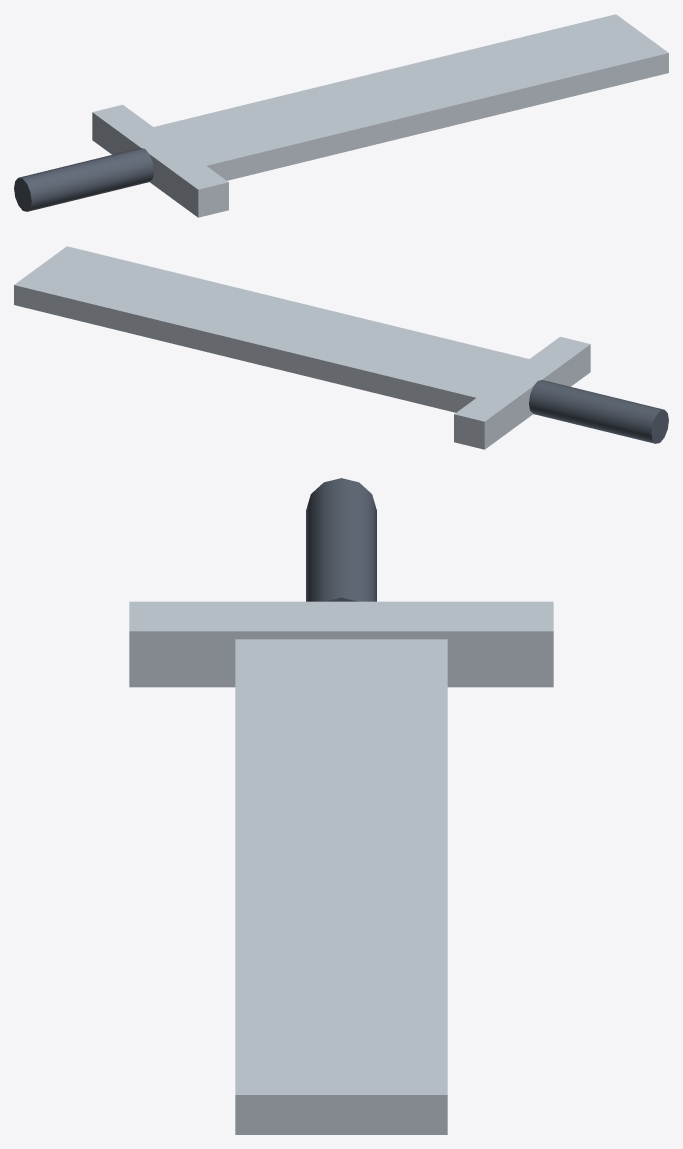
Rendered from sword.glb.
The picture shows the model from 3 angles, top to bottom: view 1: azimuth 30°, elevation 25°; view 2: azimuth 150°, elevation 25°; view 3: azimuth 270°, elevation 25°; orthographic projection. The views are drawn at different scales.
Visible parts, largest first — view 1: blade, guard, grip; view 2: blade, guard, grip; view 3: blade, guard, grip.
Boxes of the visible parts, x1=… form: blade: x1=154, y1=14, x2=668, y2=180; guard: x1=92, y1=104, x2=228, y2=217; grip: x1=14, y1=148, x2=153, y2=211; blade: x1=14, y1=246, x2=528, y2=412; guard: x1=454, y1=336, x2=590, y2=449; grip: x1=529, y1=380, x2=668, y2=443; blade: x1=235, y1=639, x2=447, y2=1134; guard: x1=129, y1=601, x2=553, y2=687; grip: x1=306, y1=478, x2=376, y2=601.
Size of the model in its own units: 0.81 by 0.04 by 0.24.
